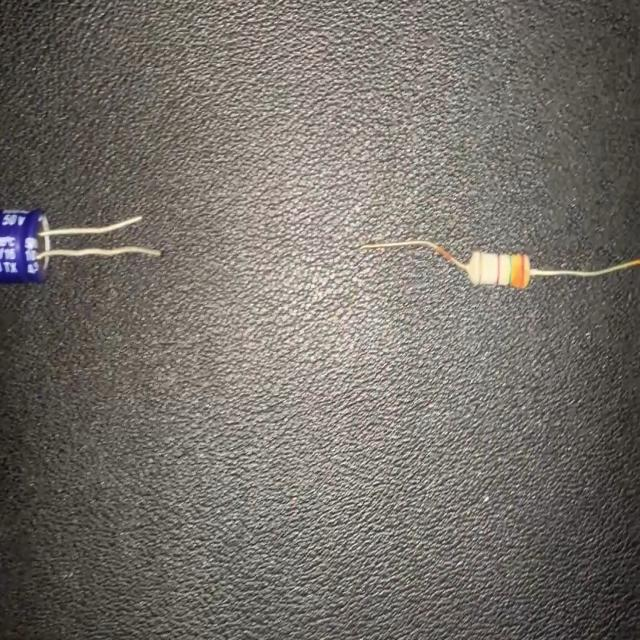burnt: (507, 253, 533, 287)
capacitor: (1, 204, 161, 285)
resistor: (361, 232, 640, 294)
rust: (432, 238, 454, 269), (626, 250, 639, 275)
